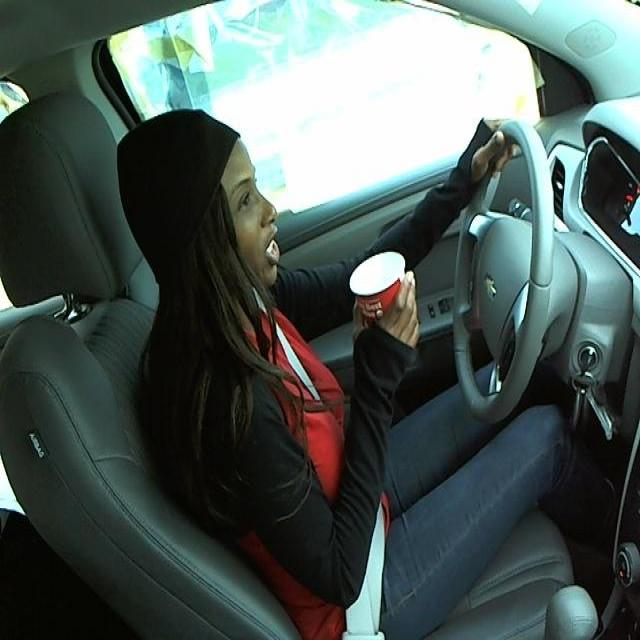drinking: (348, 247, 420, 372)
